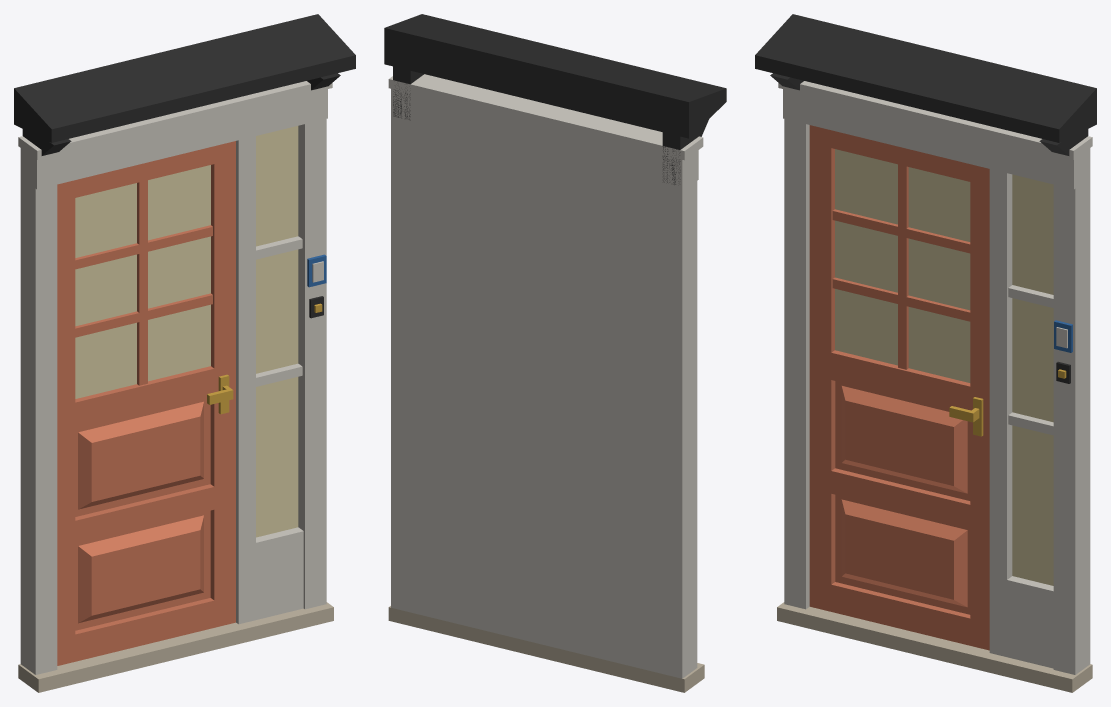
File: kapi_camli.glb
3 views of the same model, side by side, from view 1: azimuth 30°, elevation 25°; view 2: azimuth 150°, elevation 25°; view 3: azimuth 330°, elevation 25° (orthographic).
Visible parts, largest first — view 1: kapi_camli; view 2: kapi_camli; view 3: kapi_camli.
Boxes of the visible parts, x1,y1,x2,y2 form: kapi_camli: (14,14,355,692); kapi_camli: (384,14,726,692); kapi_camli: (755,14,1096,692).
Bounding box in the file's own units: 1.4 × 2.6 × 0.3.
